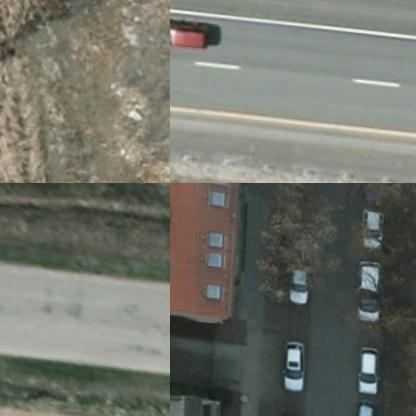car: (351, 254, 389, 322), (279, 336, 309, 390), (355, 338, 384, 392), (285, 249, 314, 302), (170, 14, 211, 50), (356, 204, 388, 248), (361, 183, 398, 207), (349, 397, 384, 415)
